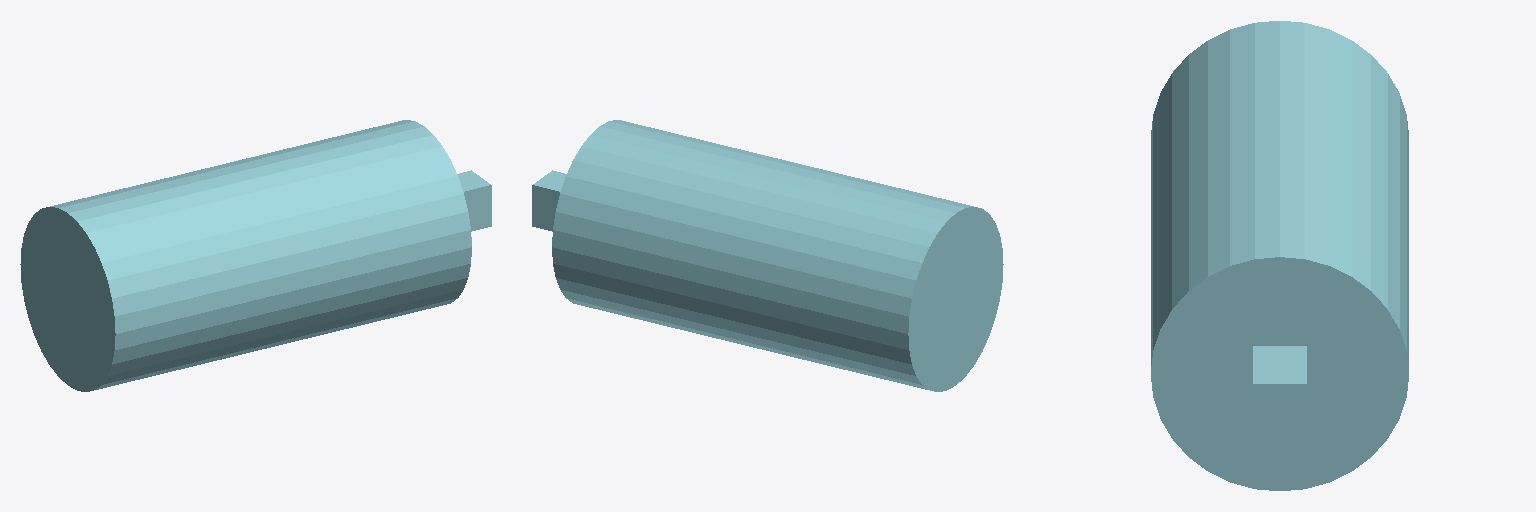
URDF robot description (cylinder_marker_v4012):
<?xml version="1.0"?>
<robot name="cylinder_marker_v4012">

  <link name="cylinder_marker_v4012">
    <!-- Handle -->
    <visual>
      <origin xyz="0 0 0" rpy="0 1.5707963267948966 0"/>
      <geometry>
        <cylinder length="0.07801134746602997" radius="0.01802673166078583"/>
      </geometry>
      <material name="material">
        <color rgba="0.639 0.847 0.882 1.0"/>
      </material>
    </visual>
    <collision>
      <origin xyz="0 0 0" rpy="0 1.5707963267948966 0"/>
      <geometry>
        <cylinder length="0.07801134746602997" radius="0.01802673166078583"/>
      </geometry>
    </collision>

    <!-- Head -->
    <visual>
      <origin xyz="0.04525491052607142 0 0" rpy="0 0 0"/>
      <geometry>
        <box size="0.012498473586112861 0.007522654950964933 0.008725940641644222"/>
      </geometry>
      <material name="material">
        <color rgba="0.639 0.847 0.882 1.0"/>
      </material>
    </visual>
    <collision>
      <origin xyz="0.04525491052607142 0 0" rpy="0 0 0"/>
      <geometry>
        <box size="0.012498473586112861 0.007522654950964933 0.008725940641644222"/>
      </geometry>
    </collision>

    <inertial>
      <density value="400.0"/>
    </inertial>
  </link>

</robot>

--- Render facts (derived) ---
The picture shows the robot from 3 angles, left to right: view 1: azimuth 30°, elevation 25°; view 2: azimuth 150°, elevation 25°; view 3: azimuth 270°, elevation 25°; orthographic projection.
Model cylinder_marker_v4012 with 1 links and 0 joints (none), rooted at cylinder_marker_v4012, posed all joints at 0.
Visible links, largest first — view 1: cylinder_marker_v4012; view 2: cylinder_marker_v4012; view 3: cylinder_marker_v4012.
Boxes of the visible links, box(x1,y1,x2,y2) form: cylinder_marker_v4012: box(20, 120, 491, 391); cylinder_marker_v4012: box(532, 120, 1003, 391); cylinder_marker_v4012: box(1151, 21, 1408, 490).
Size in the robot's own frame: 0.0905 by 0.0361 by 0.0361 metres.
Geometry: primitives only (box / cylinder / sphere), no mesh files.
